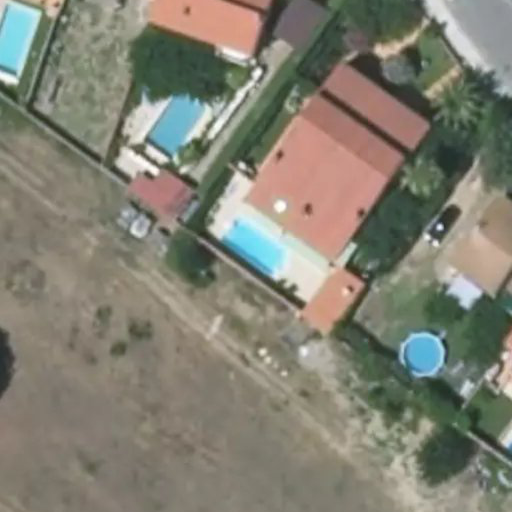pool: (221, 237, 290, 247)
